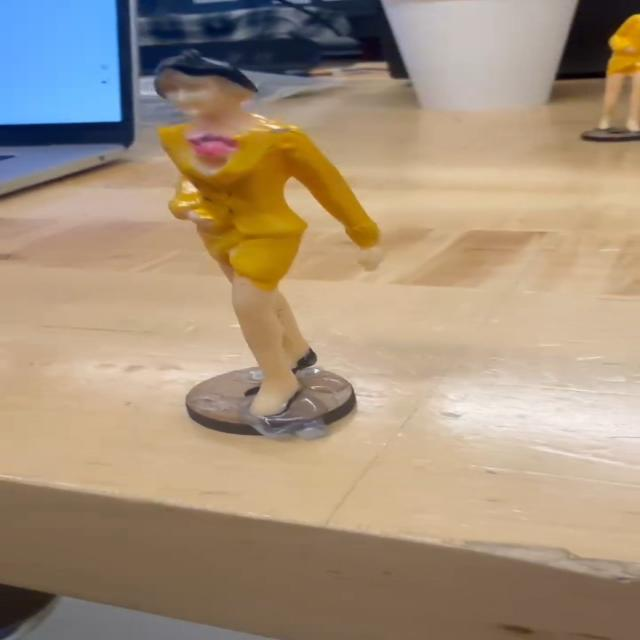Authorized: (127, 50, 396, 424)
